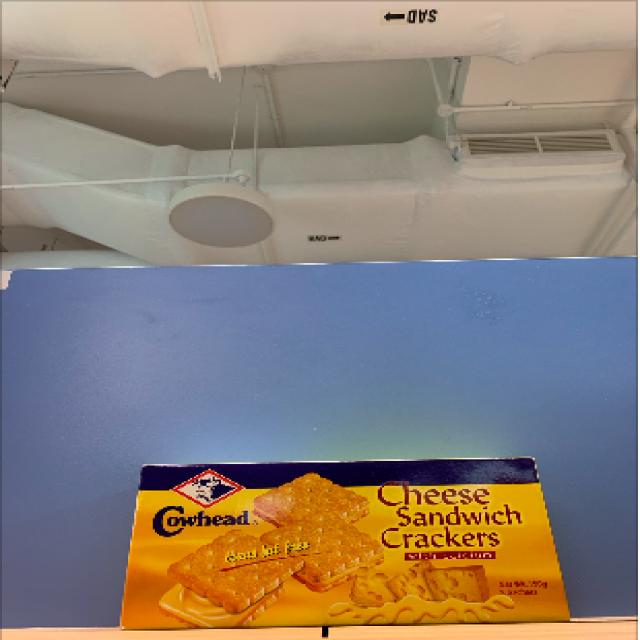object_name: (125, 465, 551, 618)
